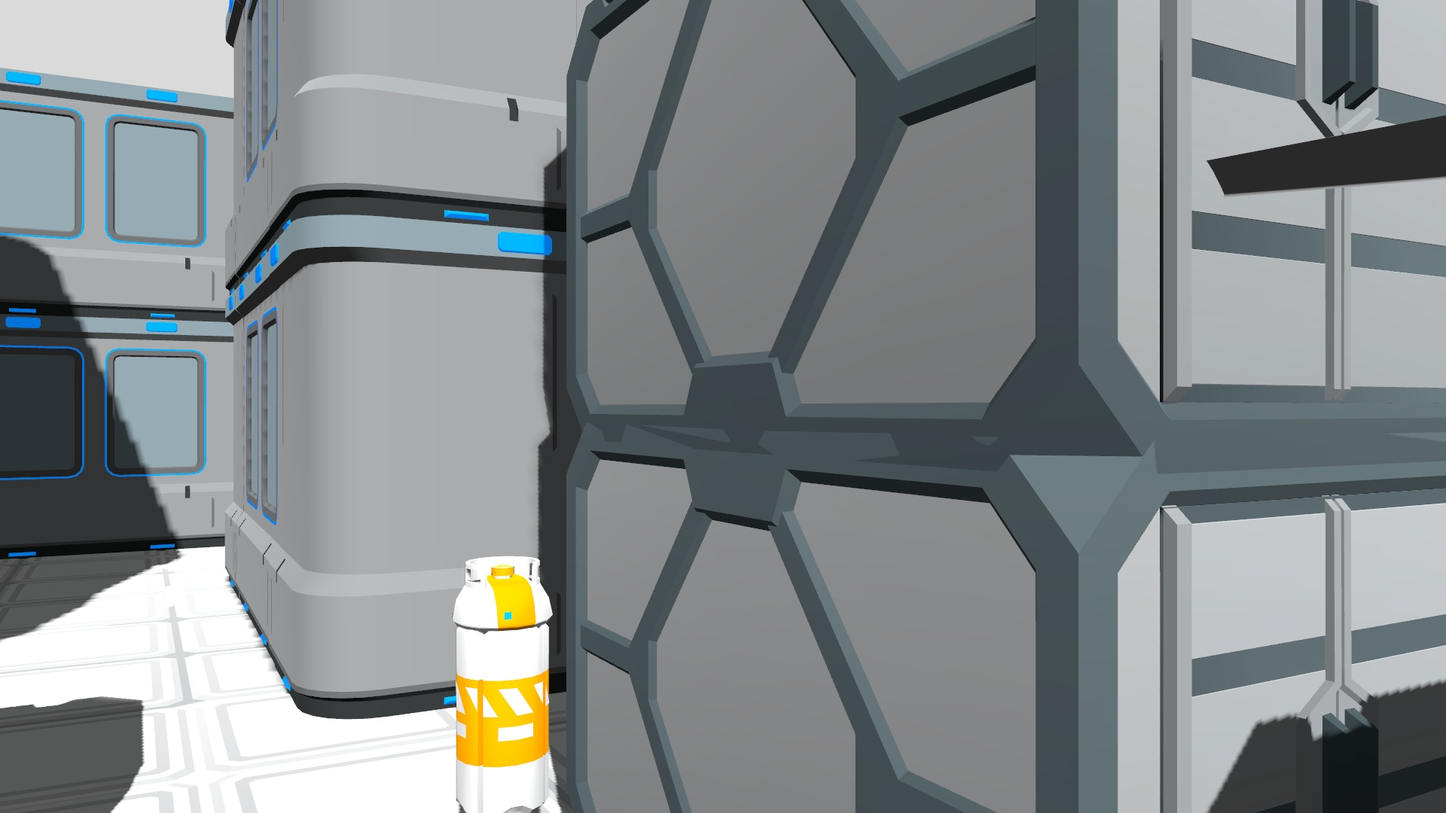yellow_barrel: (446, 551, 554, 813)
